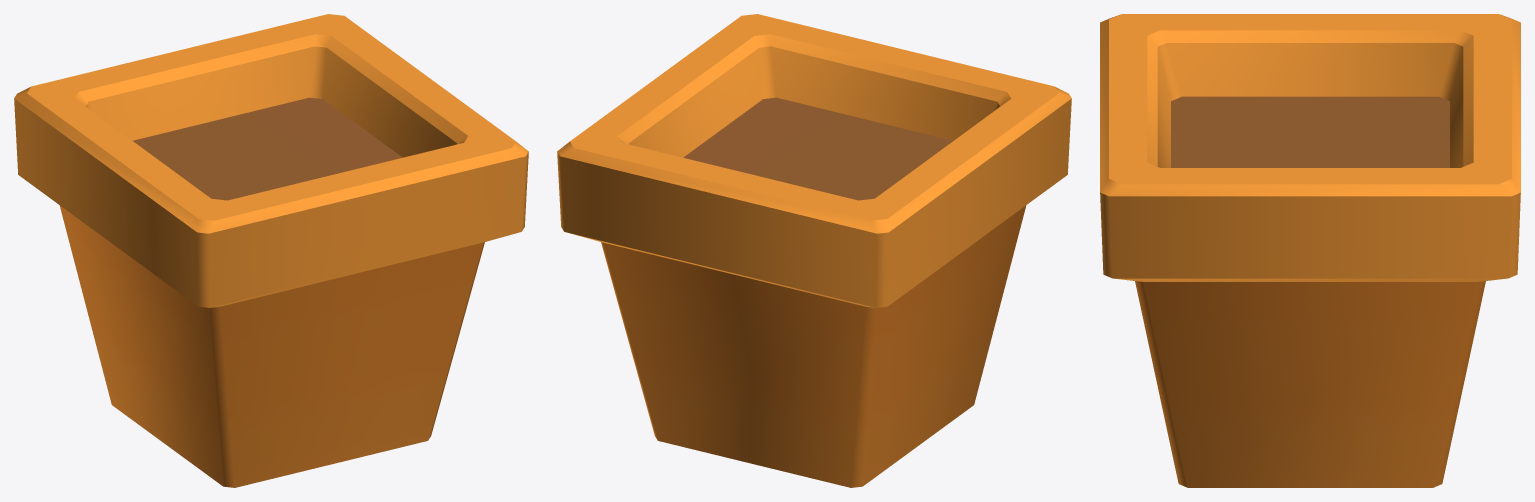
The model's file is PlantPot_1_C.fbx.
The picture shows the model from 3 angles, left to right: view 1: azimuth 30°, elevation 25°; view 2: azimuth 150°, elevation 25°; view 3: azimuth 270°, elevation 25°; orthographic projection. The views are drawn at different scales.
Parts seen in each view (by area): view 1: PlantPot_1_C; view 2: PlantPot_1_C; view 3: PlantPot_1_C.
Part boxes in pixels (<box>): PlantPot_1_C: <box>14,14,528,487</box>; PlantPot_1_C: <box>557,14,1071,487</box>; PlantPot_1_C: <box>1100,14,1520,487</box>.
Size of the model in its own units: 27.48 by 24 by 27.48.
